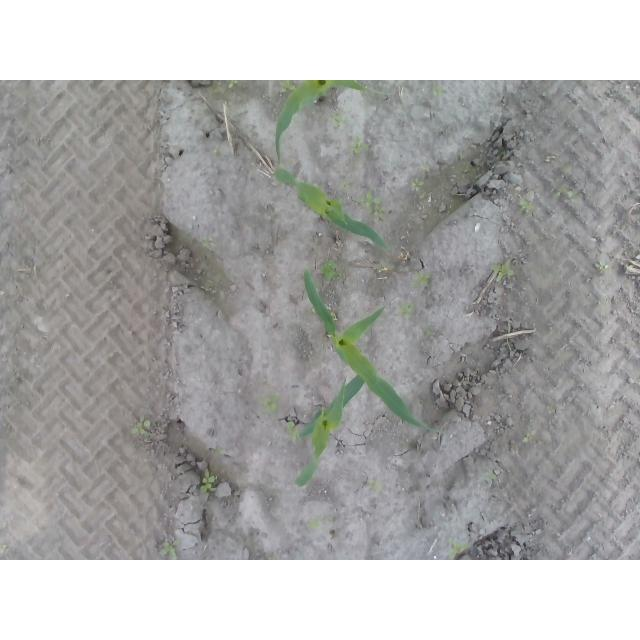Maize: (301, 269, 440, 434), (276, 167, 393, 254), (294, 372, 367, 488), (274, 80, 368, 160)
Weeds: (360, 191, 385, 218), (490, 260, 513, 282), (447, 538, 472, 555), (319, 260, 338, 282), (200, 470, 216, 495), (130, 417, 150, 435), (159, 541, 177, 560), (415, 271, 433, 289), (330, 112, 350, 128), (352, 135, 368, 155), (287, 421, 300, 440), (263, 398, 278, 413), (279, 80, 295, 94), (411, 178, 425, 193), (401, 302, 413, 319), (592, 259, 608, 270), (480, 471, 497, 481), (367, 480, 381, 492), (522, 429, 534, 443), (340, 181, 353, 192), (433, 85, 445, 96), (307, 519, 320, 529), (213, 81, 223, 93), (419, 162, 431, 171), (519, 199, 529, 209), (546, 405, 556, 415), (228, 80, 239, 89), (423, 328, 433, 337), (462, 169, 470, 180), (377, 264, 388, 272), (0, 545, 8, 555)
